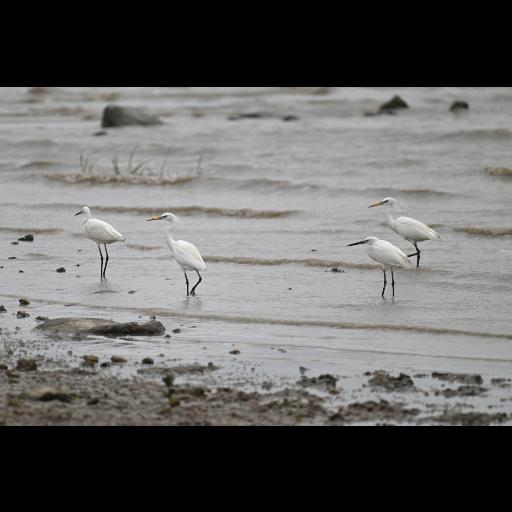chinese_egret: (368, 196, 444, 268), (146, 211, 208, 299)
